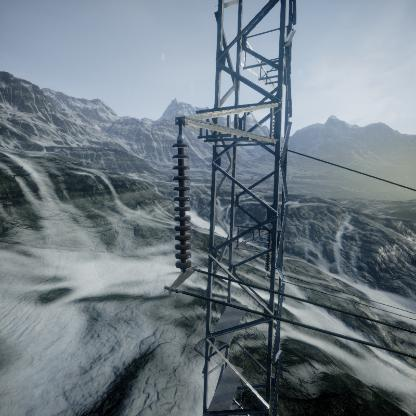insulator: (171, 134, 194, 272)
